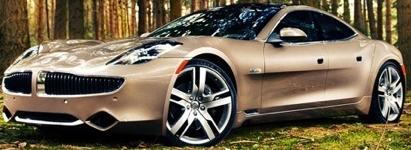front_view: (8, 43, 191, 136)
headlight: (114, 35, 193, 79)
side_glass: (263, 10, 366, 56)
